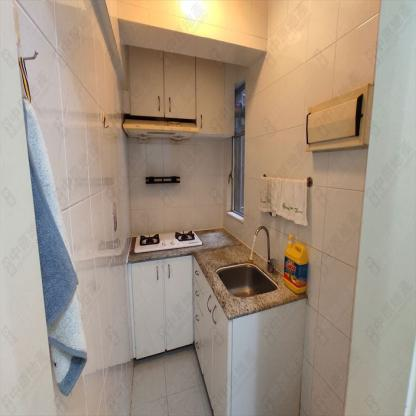Cupboard: (129, 254, 228, 415), (127, 45, 228, 135)
Exhaust Hood: (121, 117, 198, 144)
Faucet: (252, 223, 276, 273)
Sink: (211, 262, 281, 300)
Stove: (131, 229, 202, 255)
